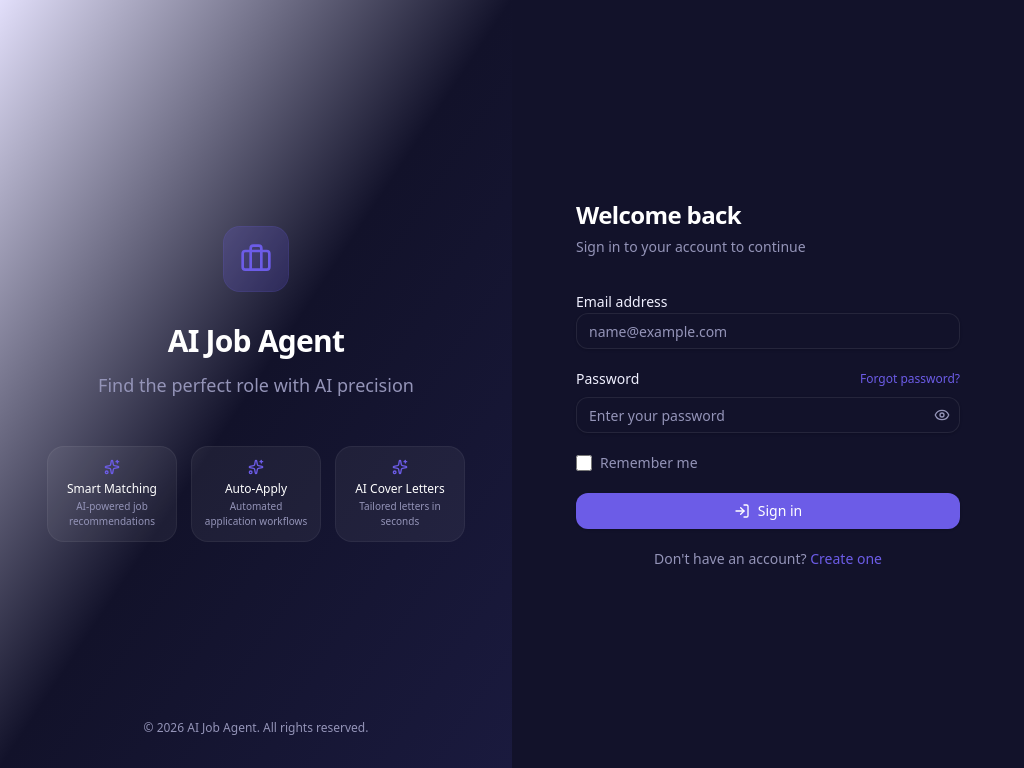
Test: LoginPage › shows server error on login failure
Type "test@test.com" into the field labelled "Email address" at (768, 331), box [576, 313, 960, 349]
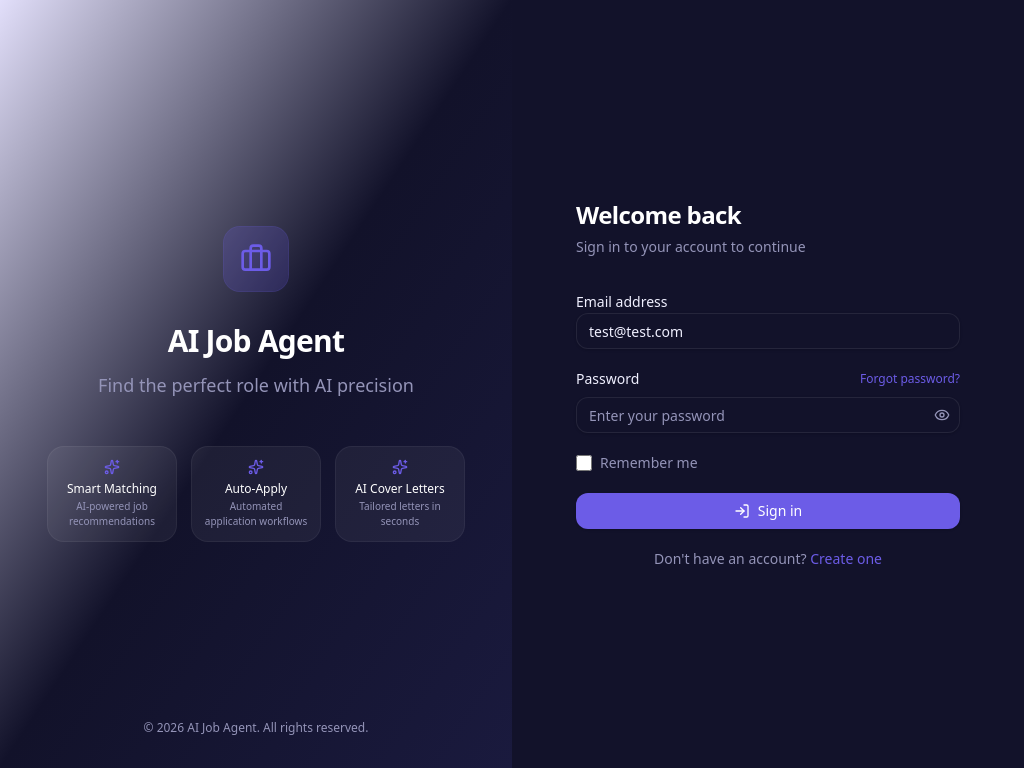
Type "wrong" into the password field labelled "Password" at (768, 415), box [576, 397, 960, 433]
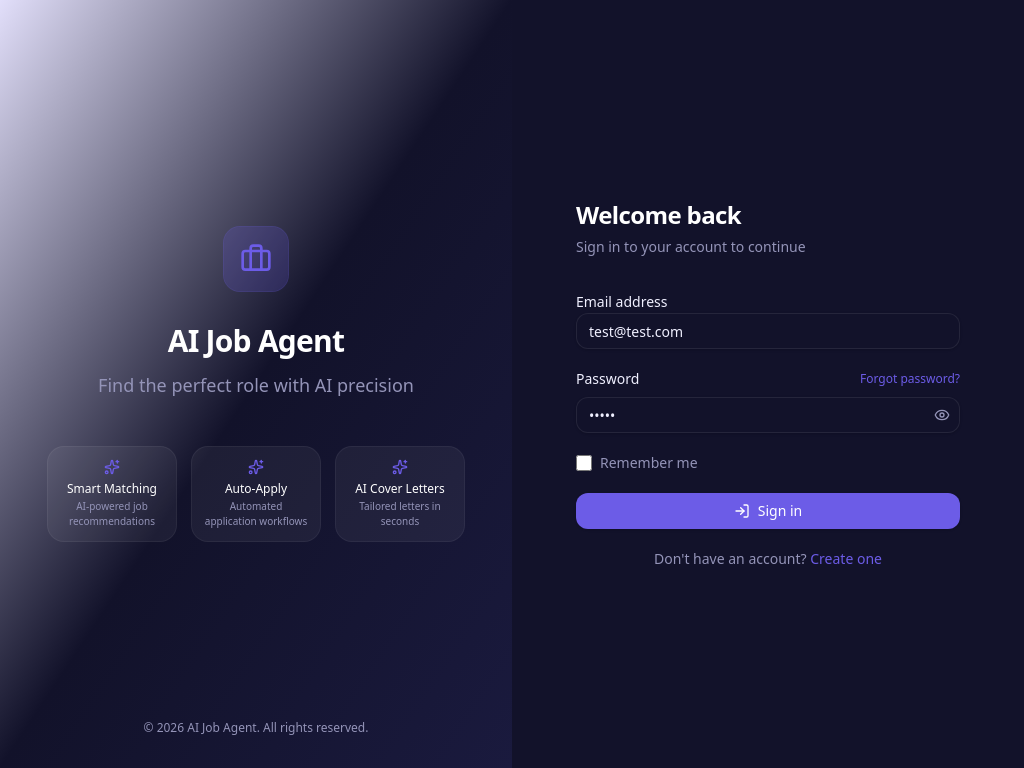
Click the button "Sign in" at (768, 511), box [576, 493, 960, 529]
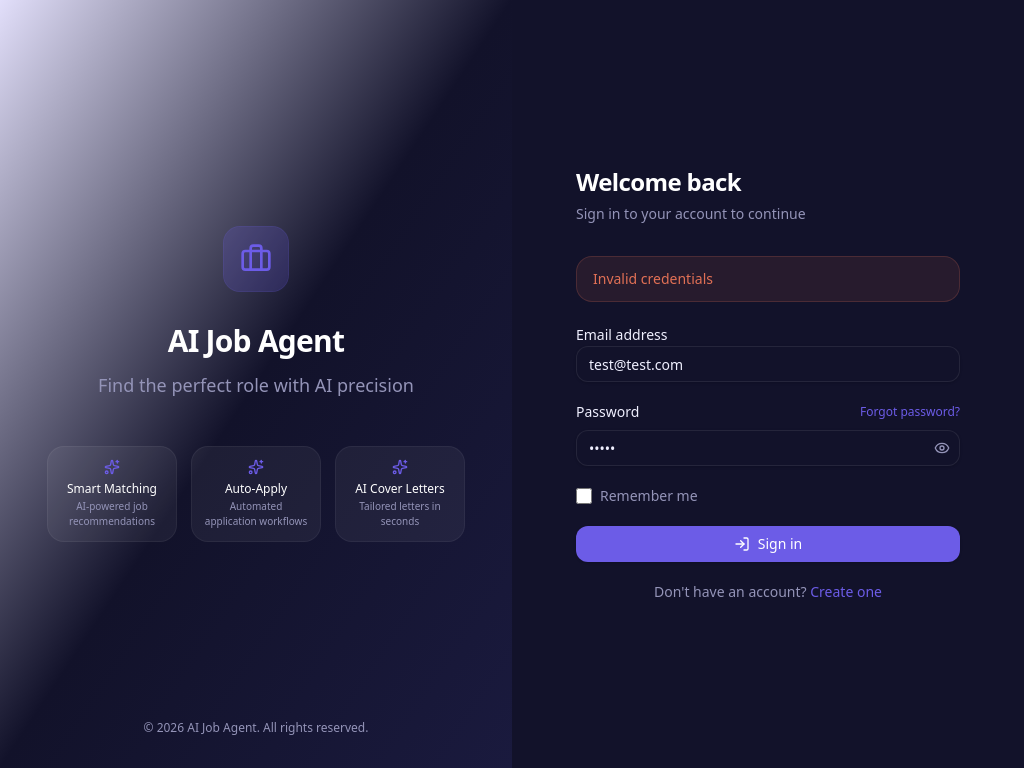
Check: the text "Invalid credentials" is shown, box [576, 256, 960, 302]
